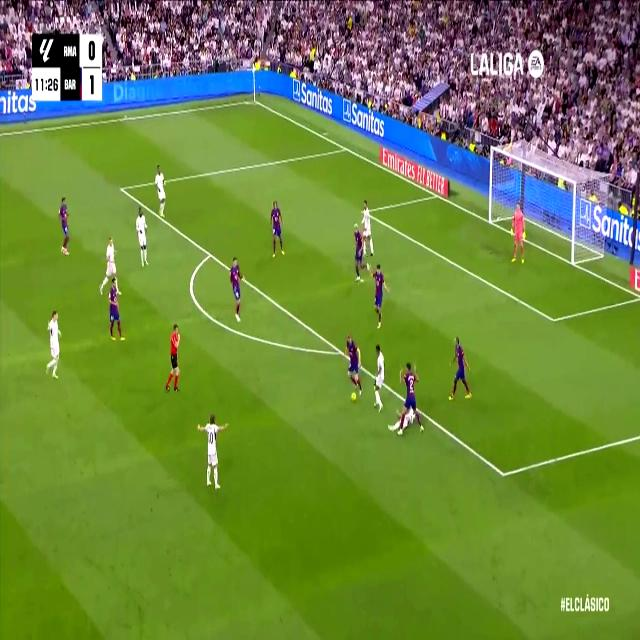bigarea_bottom_inner: (498, 459, 510, 489)
bigarea_top_inner: (118, 182, 125, 196)
bigarea_top_outter: (340, 139, 350, 155)
bottom_arc_area_intersection: (336, 340, 346, 362)
corner: (248, 93, 260, 107)
smallarea_bottom_inner: (549, 308, 559, 331)
top_arc_area_intersection: (206, 244, 214, 263)
